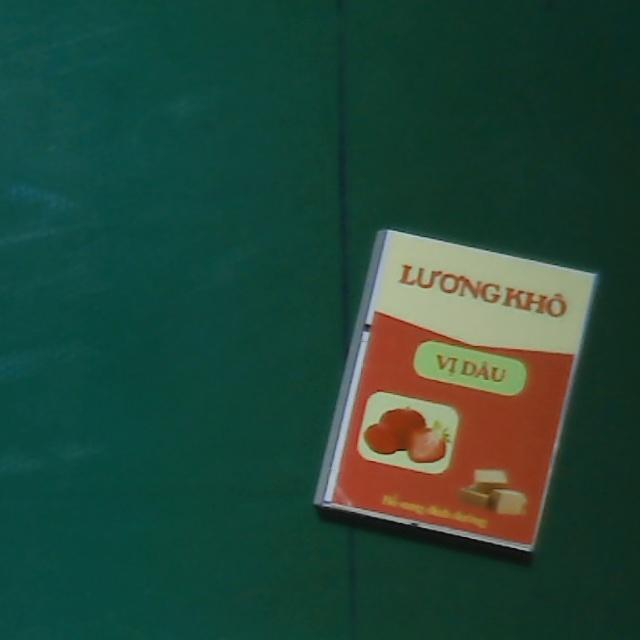dau: (312, 226, 598, 557)
